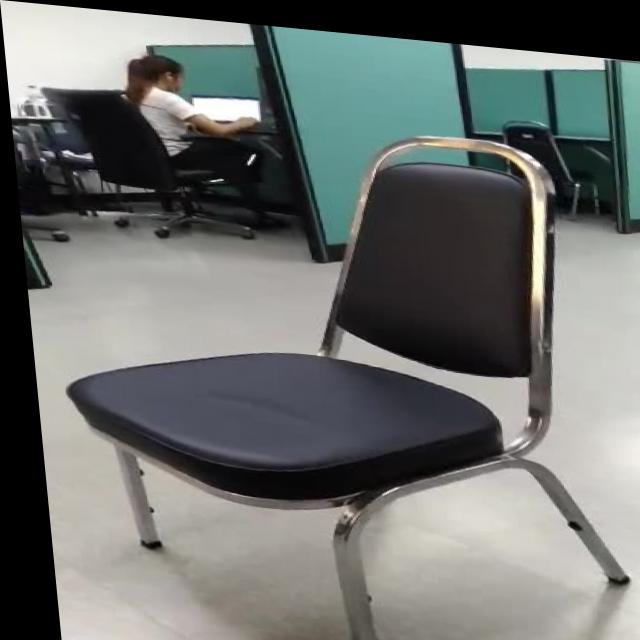chair: (7, 68, 640, 640)
